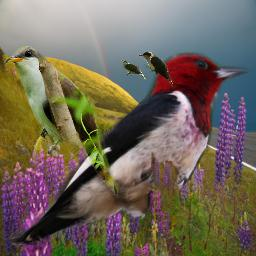Cuckoo: (1, 46, 125, 195), (138, 52, 173, 87), (121, 60, 147, 80)
Woodpecker: (0, 50, 255, 245)
